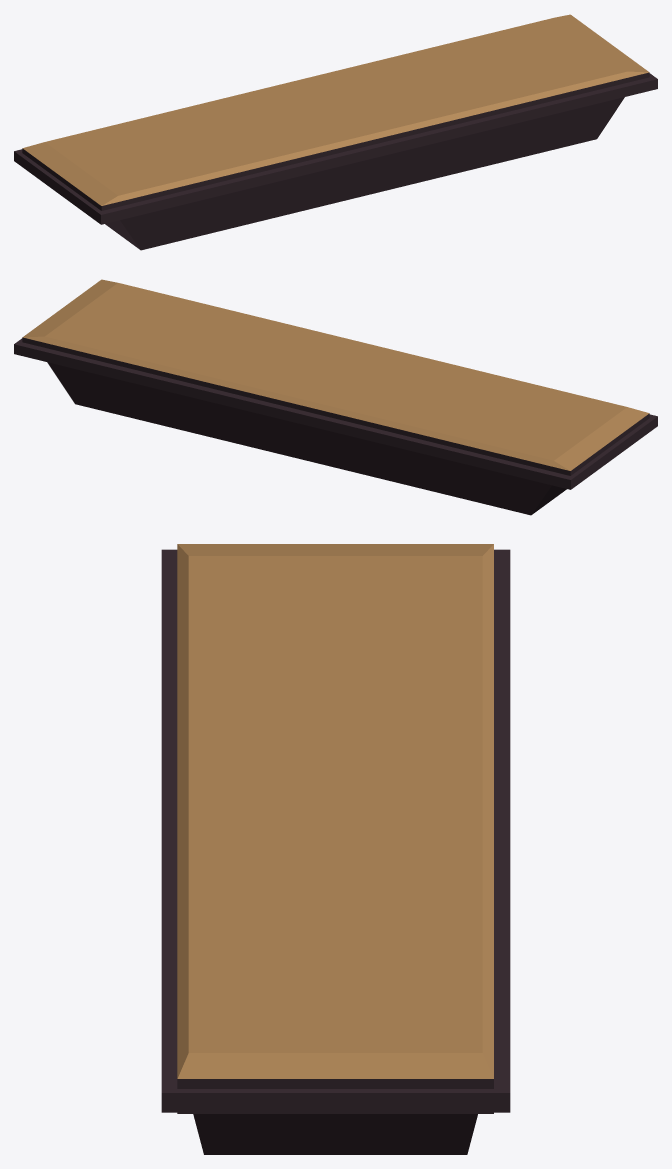
Rendered from LCmesa.fbx.
3 views of the same model, one above another, from view 1: azimuth 30°, elevation 25°; view 2: azimuth 150°, elevation 25°; view 3: azimuth 270°, elevation 25° (orthographic). The views are drawn at different scales.
Visible parts, largest first — view 1: Mesa 2.005; view 2: Mesa 2.005; view 3: Mesa 2.005.
Boxes of the visible parts, left/top/right/bottom form: Mesa 2.005: left=14, top=14, right=657, bottom=250; Mesa 2.005: left=14, top=279, right=657, bottom=515; Mesa 2.005: left=161, top=544, right=510, bottom=1154.
Bounding box in the file's own units: 1625 × 178 × 441.
